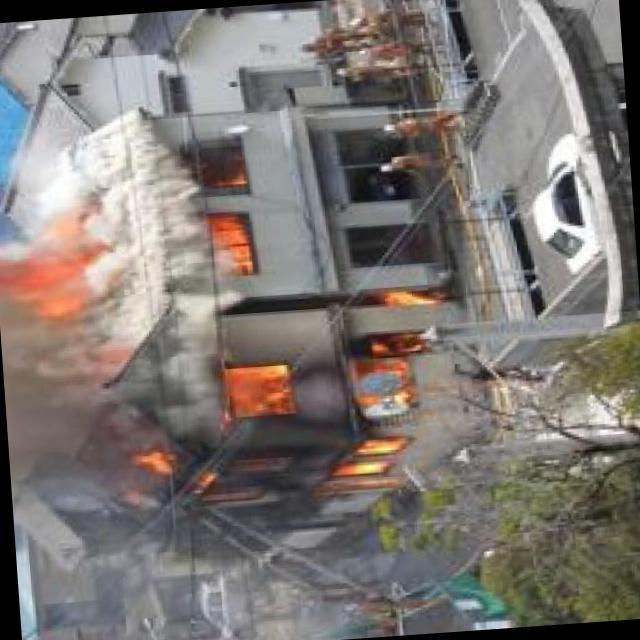Fire: (110, 271, 461, 516), (1, 193, 114, 322), (196, 145, 259, 274)
